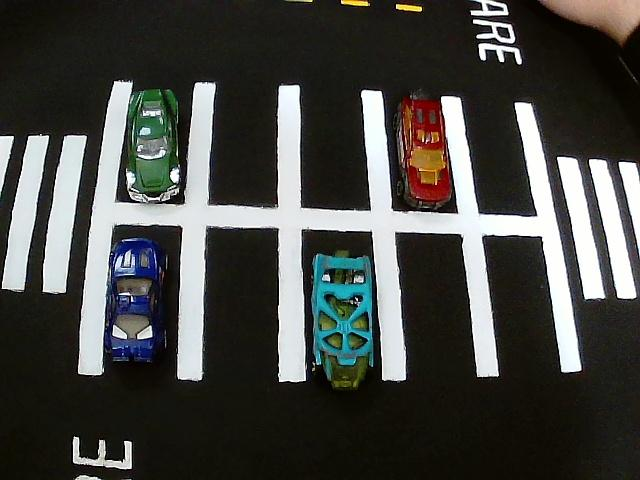Carro: (311, 254, 377, 392), (107, 238, 166, 365), (398, 96, 455, 213), (125, 90, 184, 202)
